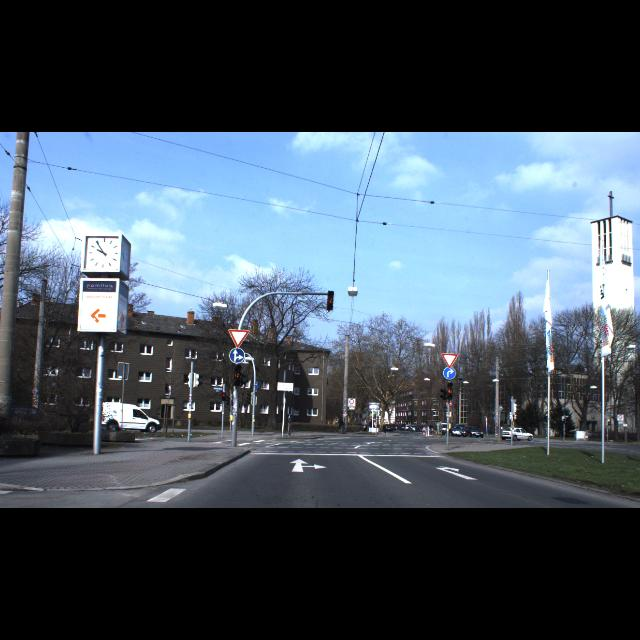mandatory: (229, 348, 245, 364), (444, 366, 456, 379)
other: (228, 328, 250, 348), (442, 353, 458, 369)
